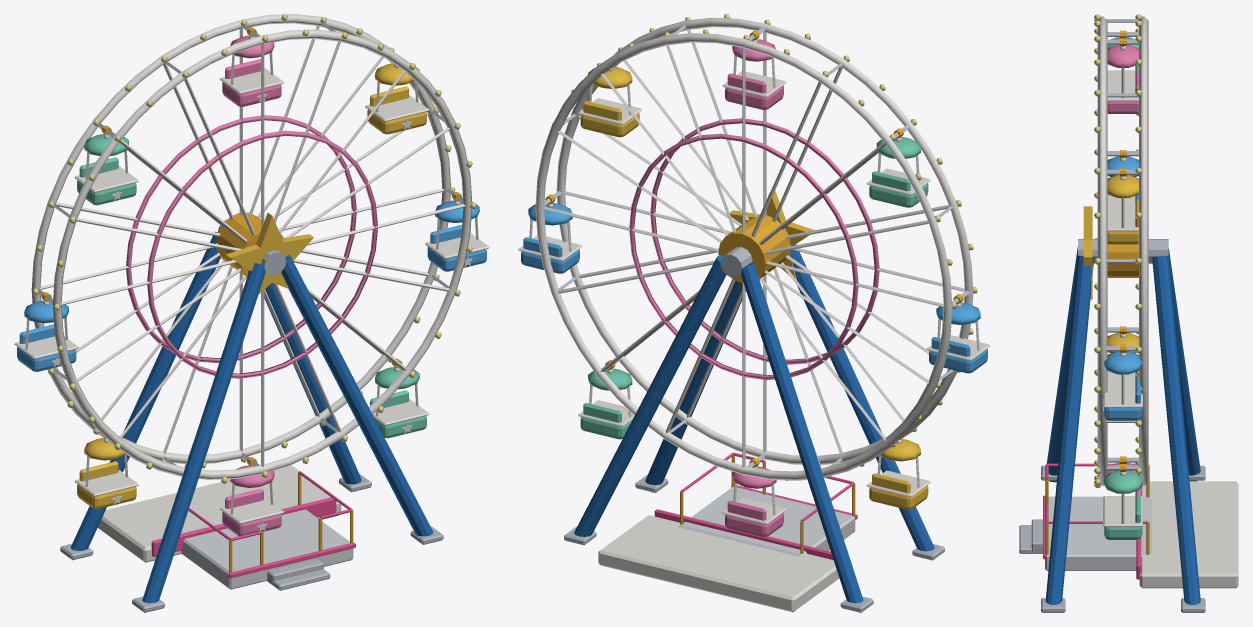
Rendered from park-wheel.glb.
3 renders of one model, left to right at view 1: azimuth 30°, elevation 25°; view 2: azimuth 150°, elevation 25°; view 3: azimuth 270°, elevation 25°, orthographic. The views are drawn at different scales.
Parts seen in each view (by area): view 1: pk_wheel_wheel_mesh, pk_wheel_mesh, pk_wheel_gondola7_mesh, pk_wheel_gondola0_mesh, pk_wheel_gondola3_mesh, pk_wheel_gondola6_mesh, pk_wheel_gondola4_mesh, pk_wheel_gondola5_mesh, pk_wheel_gondola2_mesh, pk_wheel_gondola1_mesh; view 2: pk_wheel_wheel_mesh, pk_wheel_mesh, pk_wheel_gondola7_mesh, pk_wheel_gondola0_mesh, pk_wheel_gondola3_mesh, pk_wheel_gondola4_mesh, pk_wheel_gondola5_mesh, pk_wheel_gondola6_mesh, pk_wheel_gondola1_mesh, pk_wheel_gondola2_mesh; view 3: pk_wheel_mesh, pk_wheel_wheel_mesh, pk_wheel_gondola1_mesh, pk_wheel_gondola2_mesh, pk_wheel_gondola3_mesh, pk_wheel_gondola4_mesh, pk_wheel_gondola7_mesh, pk_wheel_gondola6_mesh, pk_wheel_gondola0_mesh, pk_wheel_gondola5_mesh.
Boxes of the visible parts, x1,y1,x2,y2 form: pk_wheel_wheel_mesh: (31, 14, 476, 483); pk_wheel_mesh: (60, 219, 443, 612); pk_wheel_gondola7_mesh: (74, 434, 138, 509); pk_wheel_gondola0_mesh: (220, 457, 283, 536); pk_wheel_gondola3_mesh: (365, 63, 429, 134); pk_wheel_gondola6_mesh: (14, 292, 78, 371); pk_wheel_gondola4_mesh: (219, 27, 284, 106); pk_wheel_gondola5_mesh: (74, 125, 138, 205); pk_wheel_gondola2_mesh: (425, 192, 489, 271); pk_wheel_gondola1_mesh: (370, 358, 429, 438); pk_wheel_wheel_mesh: (535, 14, 977, 480); pk_wheel_mesh: (564, 244, 944, 612); pk_wheel_gondola7_mesh: (866, 435, 930, 509); pk_wheel_gondola0_mesh: (722, 458, 786, 536); pk_wheel_gondola3_mesh: (578, 66, 641, 137); pk_wheel_gondola4_mesh: (722, 30, 786, 109); pk_wheel_gondola5_mesh: (866, 128, 930, 207); pk_wheel_gondola6_mesh: (926, 294, 990, 373); pk_wheel_gondola1_mesh: (578, 360, 634, 439); pk_wheel_gondola2_mesh: (518, 194, 582, 273); pk_wheel_mesh: (1019, 239, 1238, 612); pk_wheel_wheel_mesh: (1083, 14, 1148, 488); pk_wheel_gondola1_mesh: (1103, 464, 1142, 539); pk_wheel_gondola2_mesh: (1103, 344, 1142, 420); pk_wheel_gondola3_mesh: (1107, 168, 1139, 244); pk_wheel_gondola4_mesh: (1107, 38, 1138, 113); pk_wheel_gondola7_mesh: (1107, 326, 1138, 384); pk_wheel_gondola6_mesh: (1107, 150, 1138, 207); pk_wheel_gondola0_mesh: (1103, 456, 1142, 517); pk_wheel_gondola5_mesh: (1107, 30, 1138, 77).
Size of the model in its own units: 12.44 by 13.65 by 5.32.
